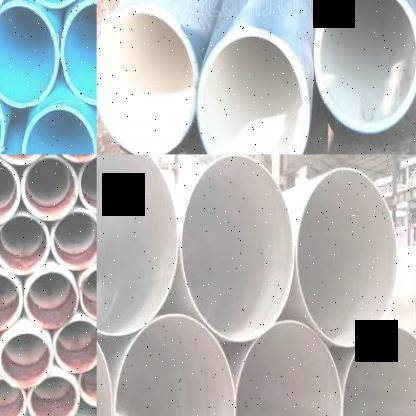pipe: (176, 155, 296, 344), (292, 164, 401, 350), (96, 4, 198, 154), (96, 155, 180, 336), (196, 26, 309, 154), (313, 0, 416, 133), (110, 310, 238, 416), (232, 320, 344, 416), (342, 322, 415, 416), (0, 0, 59, 108), (22, 103, 97, 154), (61, 0, 97, 106), (22, 156, 78, 220), (25, 268, 79, 329), (0, 214, 50, 275), (0, 331, 51, 389), (51, 208, 96, 270), (53, 317, 96, 373), (27, 374, 79, 416), (0, 157, 21, 227), (0, 271, 23, 331), (78, 154, 96, 216), (0, 377, 27, 416), (78, 266, 96, 322), (78, 370, 96, 407), (15, 0, 91, 7), (0, 74, 5, 154), (413, 240, 416, 362)
